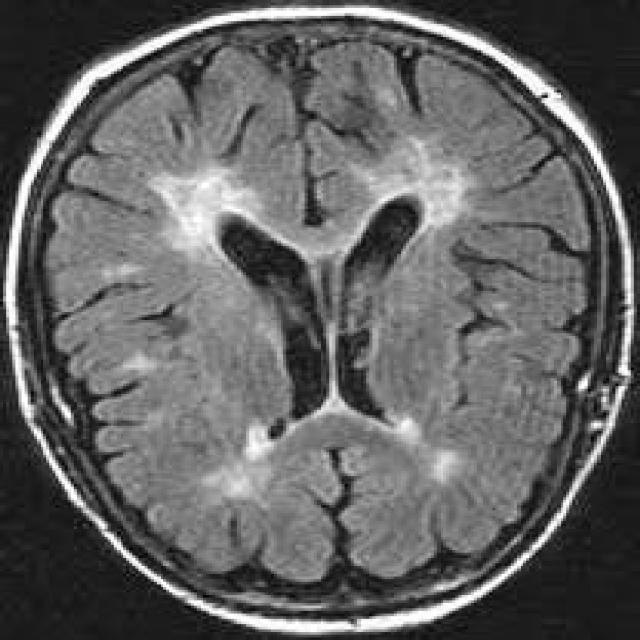notumor: (6, 8, 628, 627)
